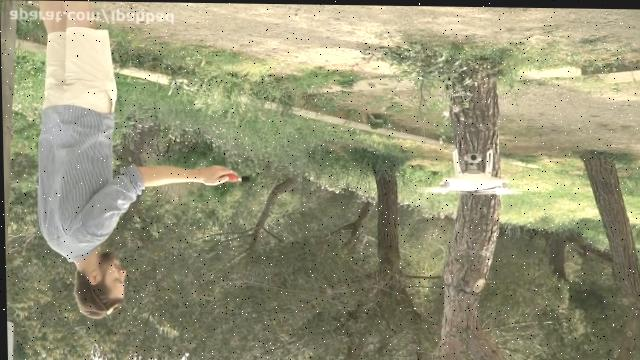drone: (415, 147, 526, 196)
